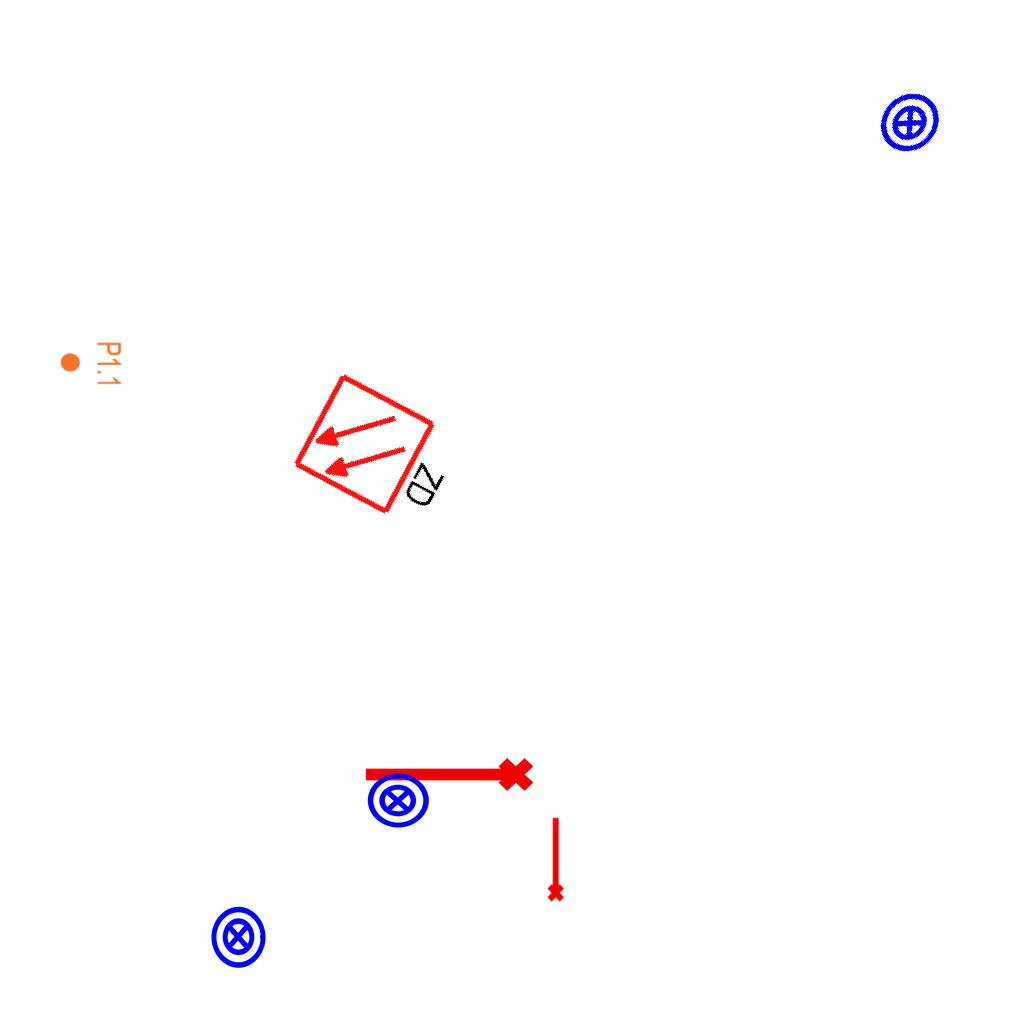ASR_Ansaugoeffnung: (360, 754, 536, 800), (543, 815, 566, 903)
Downlight_LED_Einbauleuchten_Flur: (59, 341, 123, 387)
Taster_beleuchtet: (863, 76, 957, 170), (205, 904, 271, 970), (365, 768, 431, 834)
ZD_Melder_in_Zwischendecke_mit_Revisionsoeffnung_mind_40_x_40_cm: (289, 366, 475, 537)
